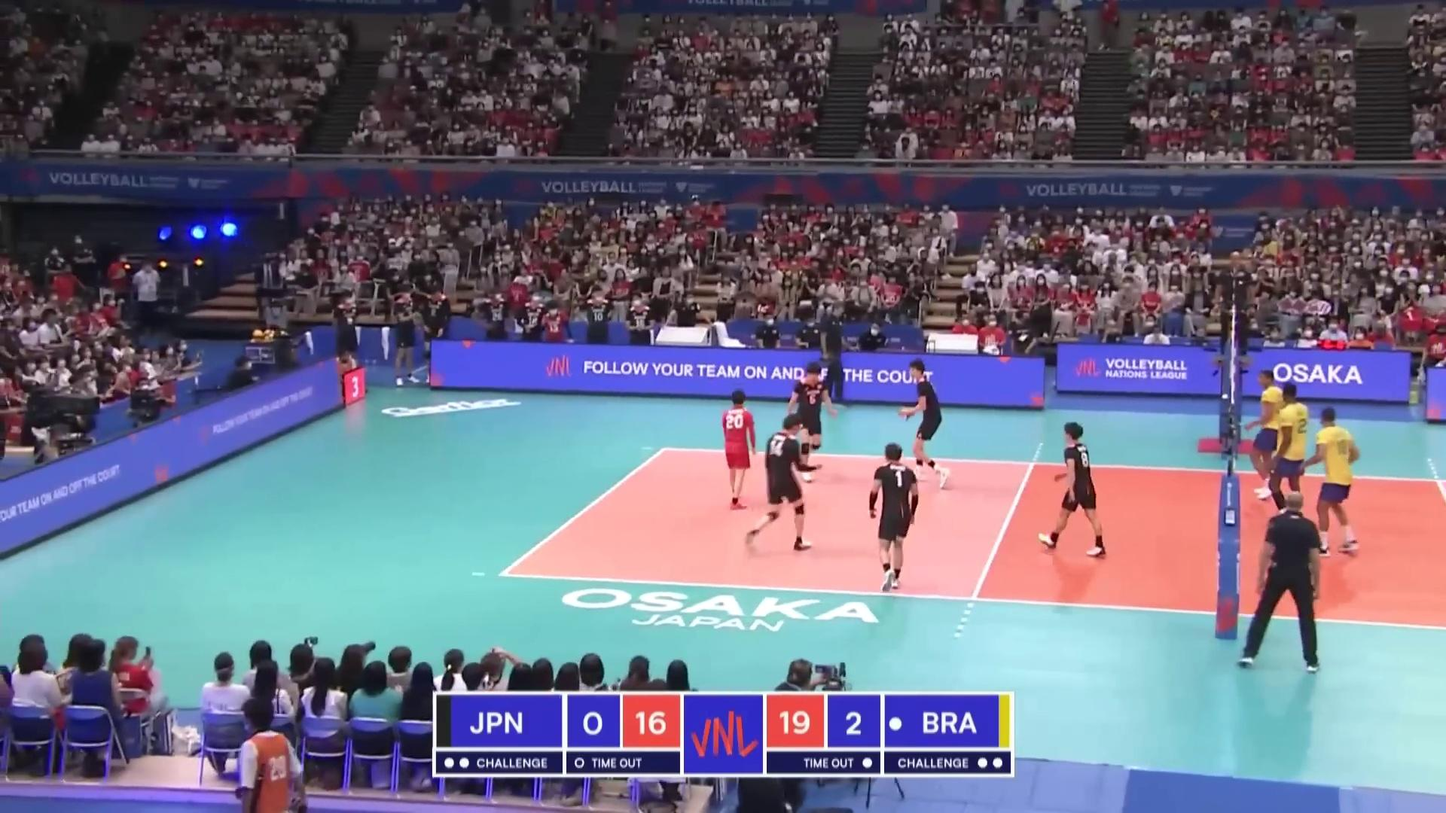player: (1037, 421, 1111, 557), (749, 414, 817, 552), (1305, 408, 1361, 556), (865, 443, 919, 592), (898, 358, 955, 490), (1269, 384, 1311, 522), (788, 363, 835, 482), (1247, 370, 1287, 503), (718, 392, 759, 510)
refree: (1247, 494, 1322, 672), (1219, 251, 1252, 359)
